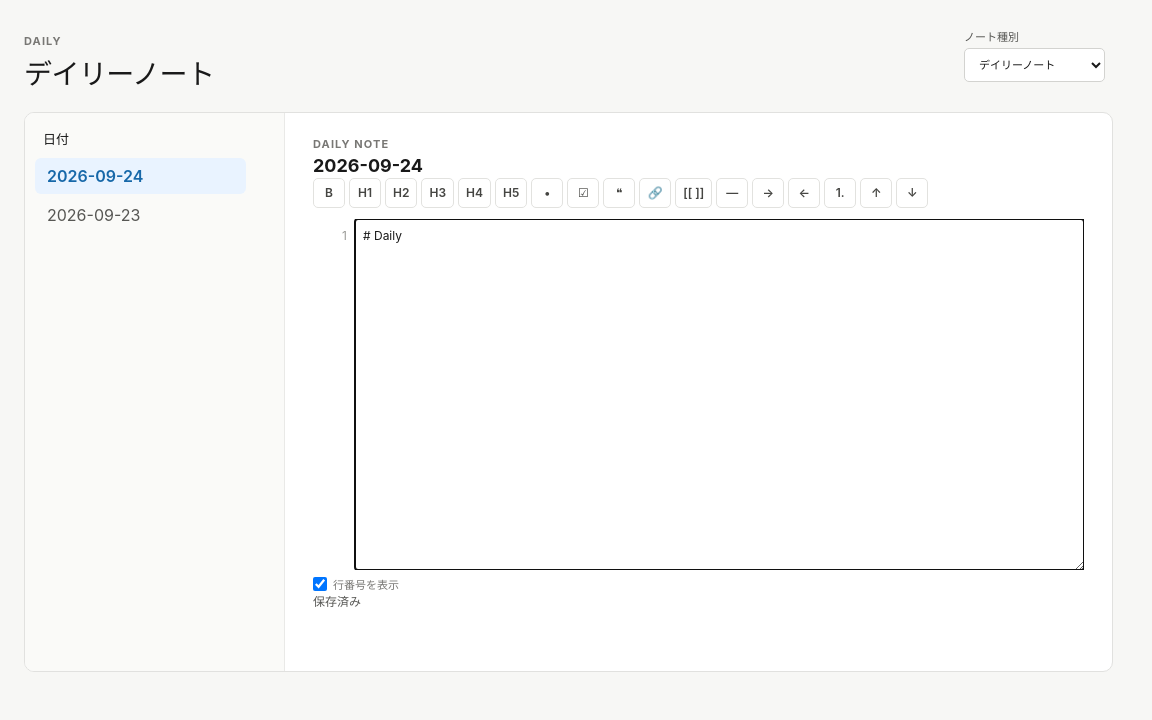
Test: DailyNotesBoard corrective UI › holds Daily autosave and Ctrl+S until the raw internal-link marker is removed
This screenshot has width=1152, height=720.
Click the button named "内部リンクを挿入" at x=694, y=193, box [675,178,712,208]
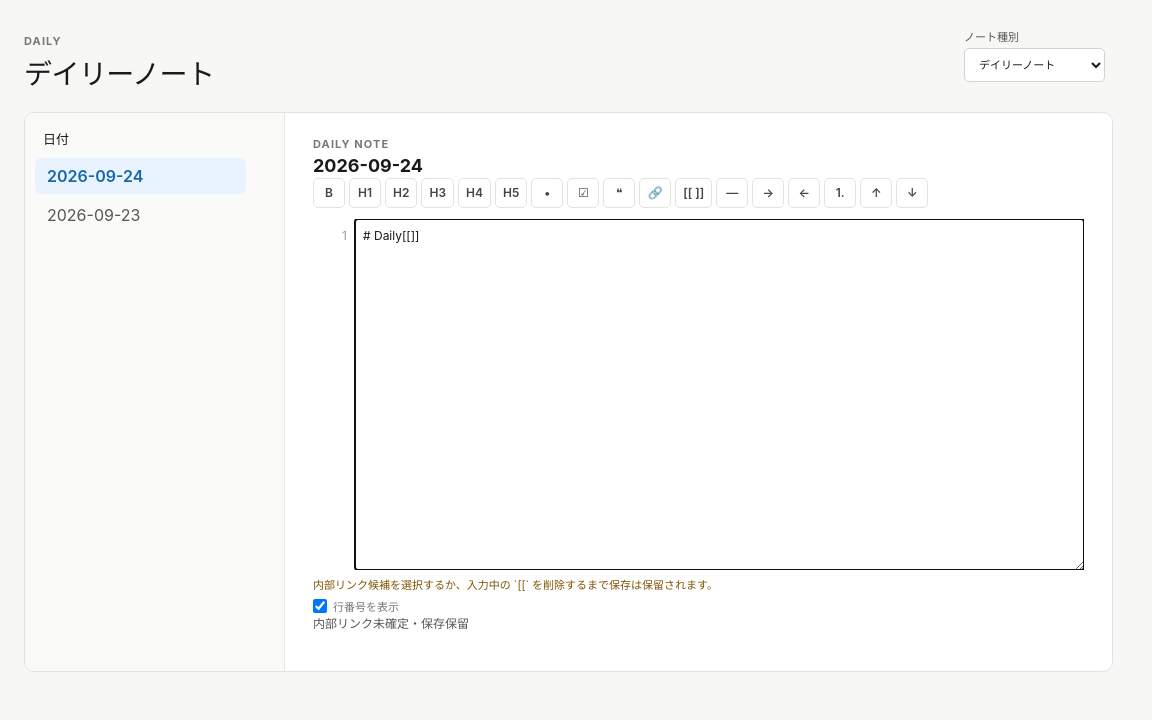
Now the text box named "Markdown本文" holds "# Daily[ []]"
Now the text "内部リンク未確定・保存保留" is shown, box [313,616,469,631]
Press s in the text box named "Markdown本文", box [355,219,1084,570]
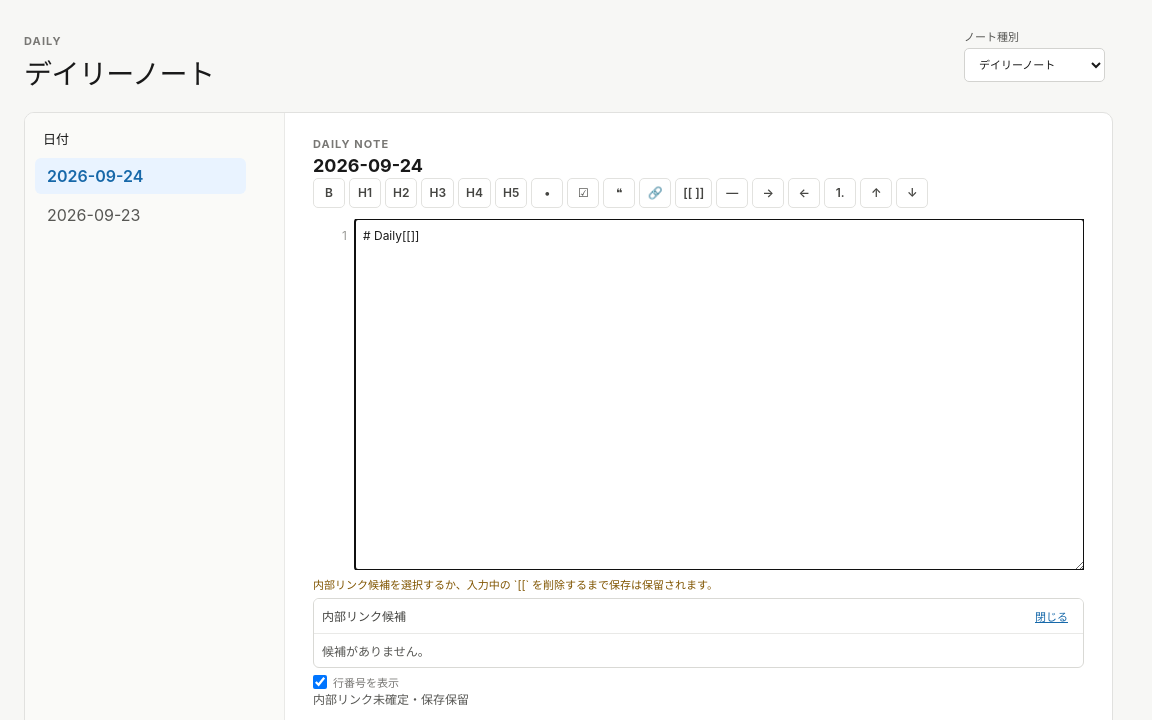
Replace the text in the text box named "Markdown本文" with "# Daily edited" at x=720, y=394, box [355,219,1084,570]
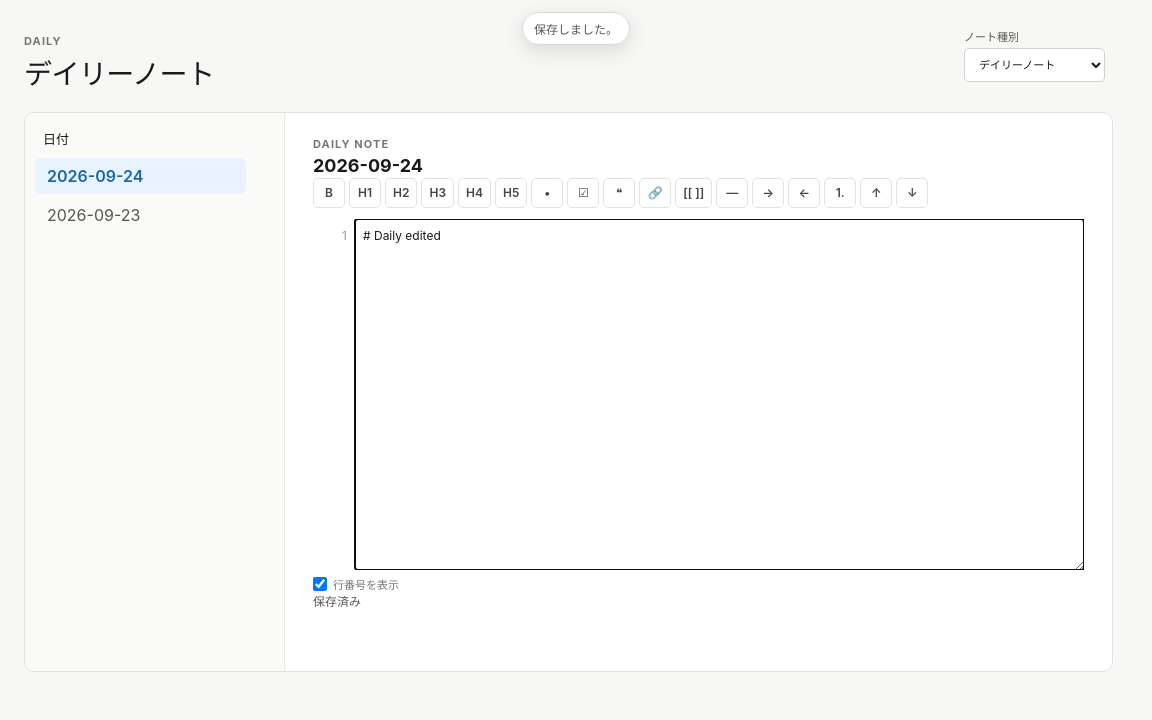
Now the text "# Daily edited" is shown, box [363,228,441,243]
